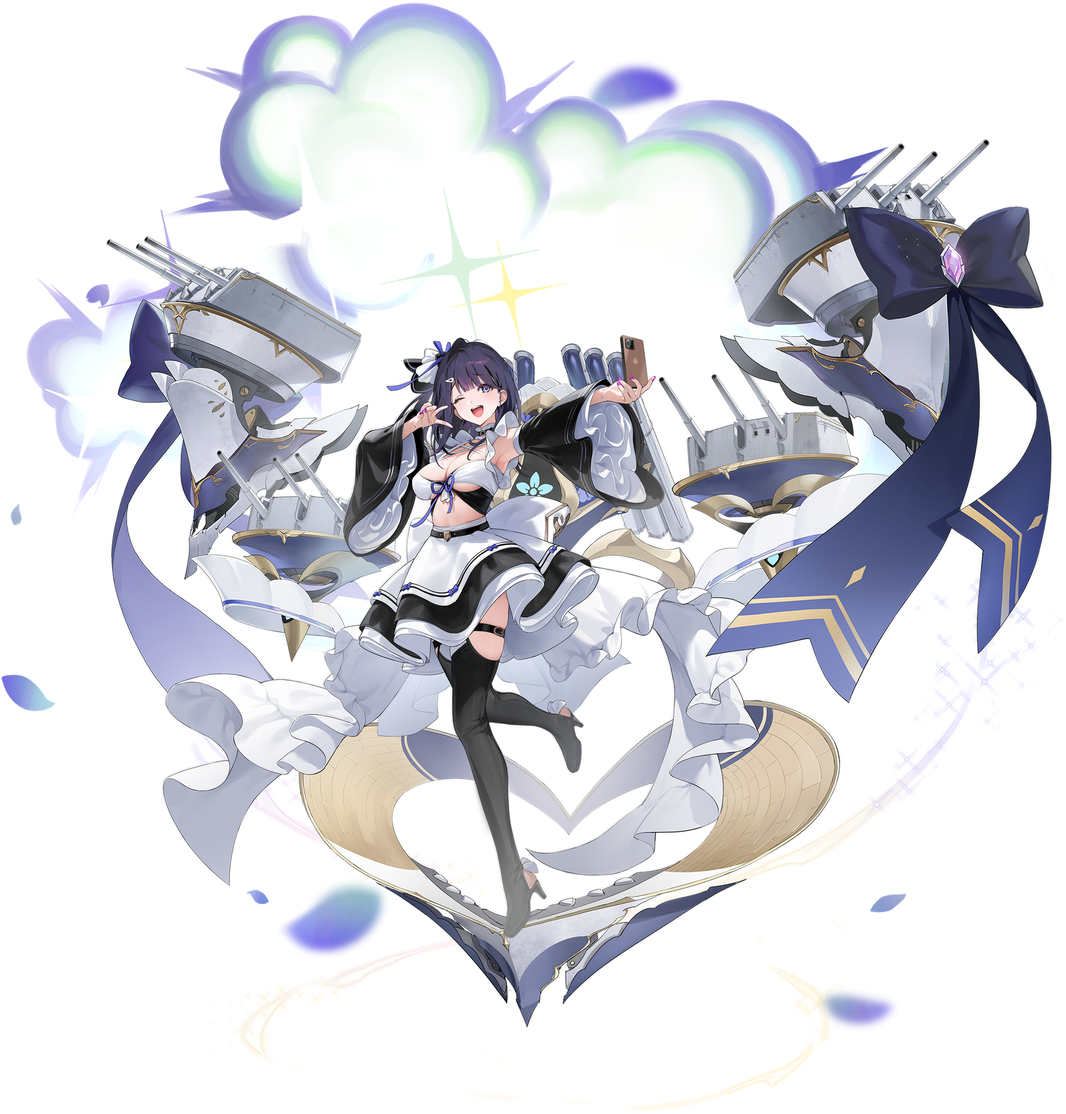person: (323, 311, 695, 938)
